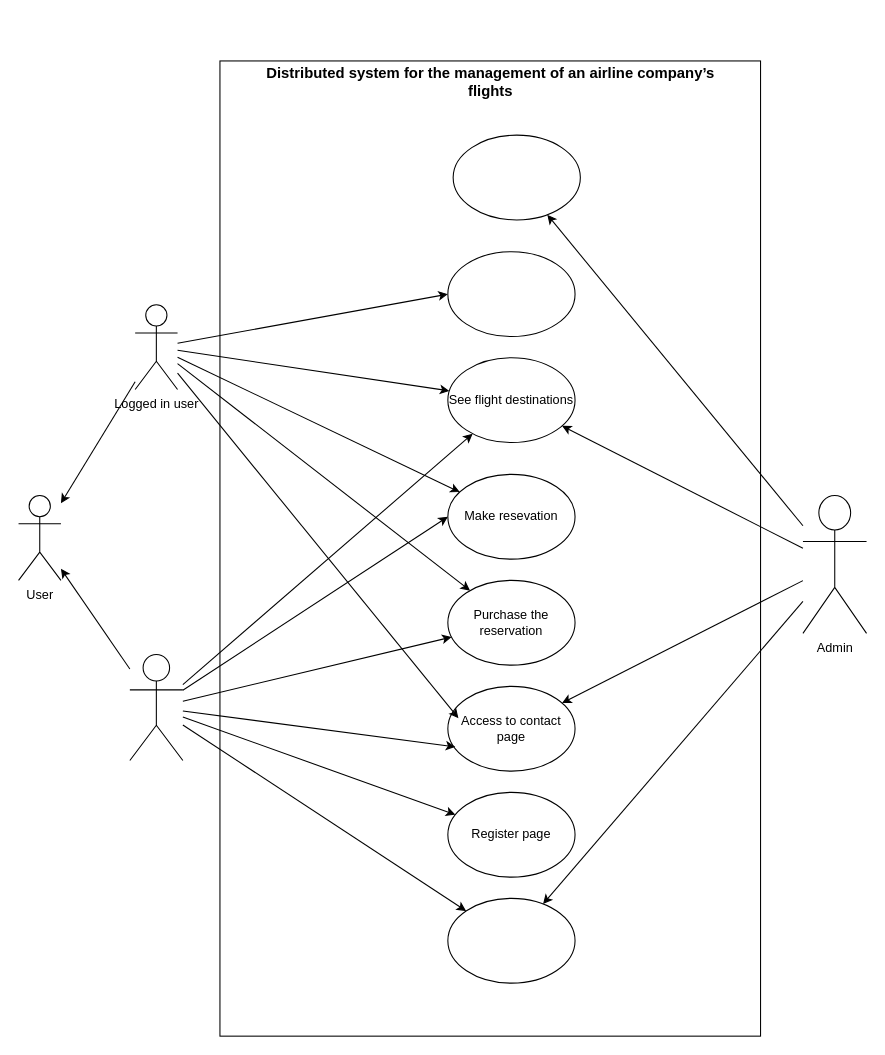
The diagram is 885 pixels wide and 1055 high, and some of its shapes have lost their labels. The centre of each missing label's shape, as x and y in pixels:
"Admin view" goes at point 516,177.
"Check profile page and reservation history" goes at point 511,294.
"Login page" goes at point 511,940.
"unlogged user" goes at point 156,707.
